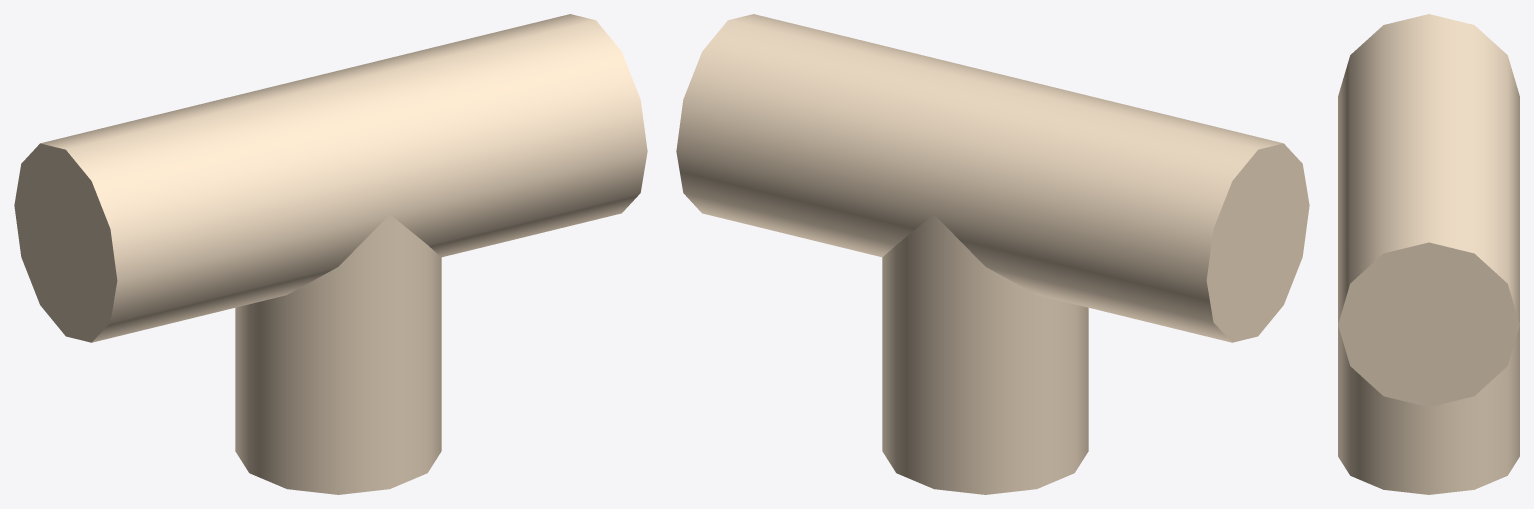
Rendered from forestgump.fbx.
3 views of the same model, side by side, from view 1: azimuth 30°, elevation 25°; view 2: azimuth 150°, elevation 25°; view 3: azimuth 270°, elevation 25° (orthographic). The views are drawn at different scales.
Visible parts, largest first — view 1: zabor pram; view 2: zabor pram; view 3: zabor pram.
Boxes of the visible parts, bbox=[...] form: zabor pram: bbox=[14, 14, 647, 494]; zabor pram: bbox=[676, 14, 1309, 494]; zabor pram: bbox=[1338, 14, 1519, 494].
Size of the model in its own units: 255 by 169 by 85.66.
